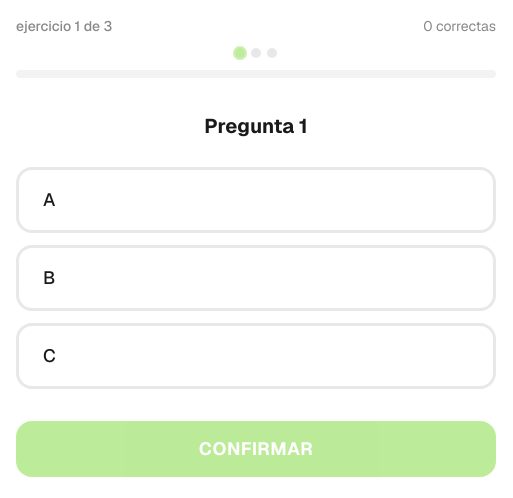
Scenario: LessonFlow › avanza al siguiente ejercicio después de responder
Answer first exercise
Click the button "A" at (49, 199), box [16,166,496,232]
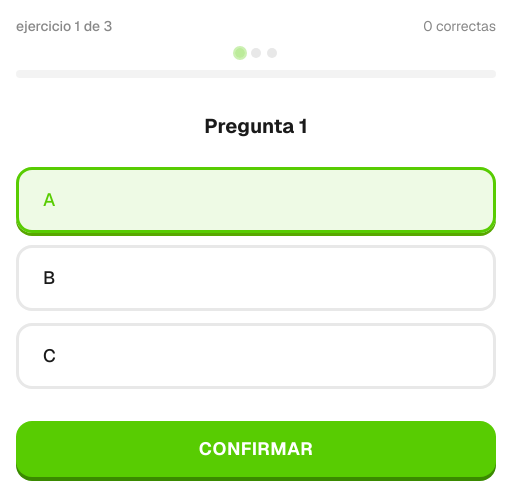
Click the button "confirmar" at (256, 448), box [16,420,496,476]
Wait 600 ms
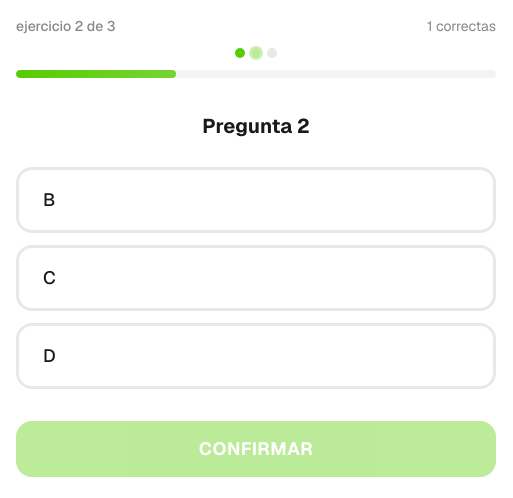
Check: the heading "Pregunta 2" is shown, box [202,113,310,139]
Check: the text "ejercicio 2 de 3" is shown, box [16,16,115,36]
